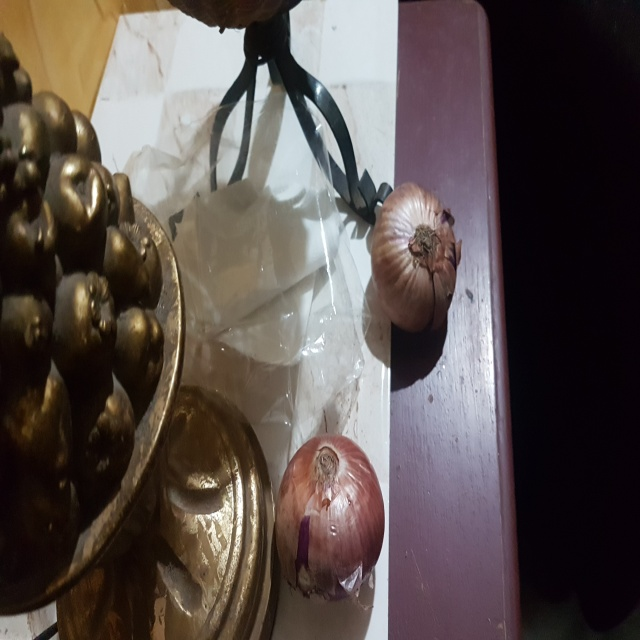onion: (271, 437, 396, 592), (368, 174, 468, 333)
